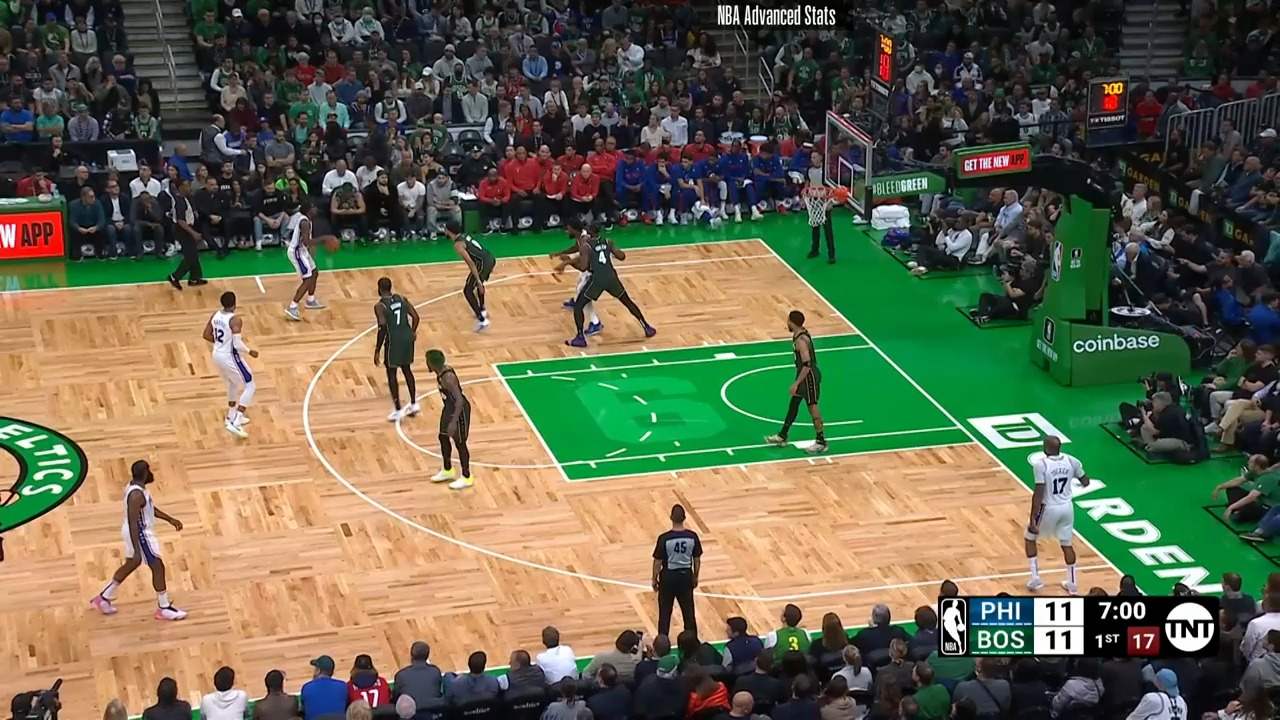net: (798, 180, 847, 231)
player: (93, 459, 186, 626), (193, 290, 272, 444), (1025, 434, 1097, 597), (557, 221, 652, 342), (367, 277, 431, 426), (422, 347, 484, 489), (278, 201, 334, 328), (780, 307, 827, 448), (442, 220, 494, 335)
referee: (649, 502, 719, 651), (793, 146, 847, 265), (163, 173, 210, 290)
